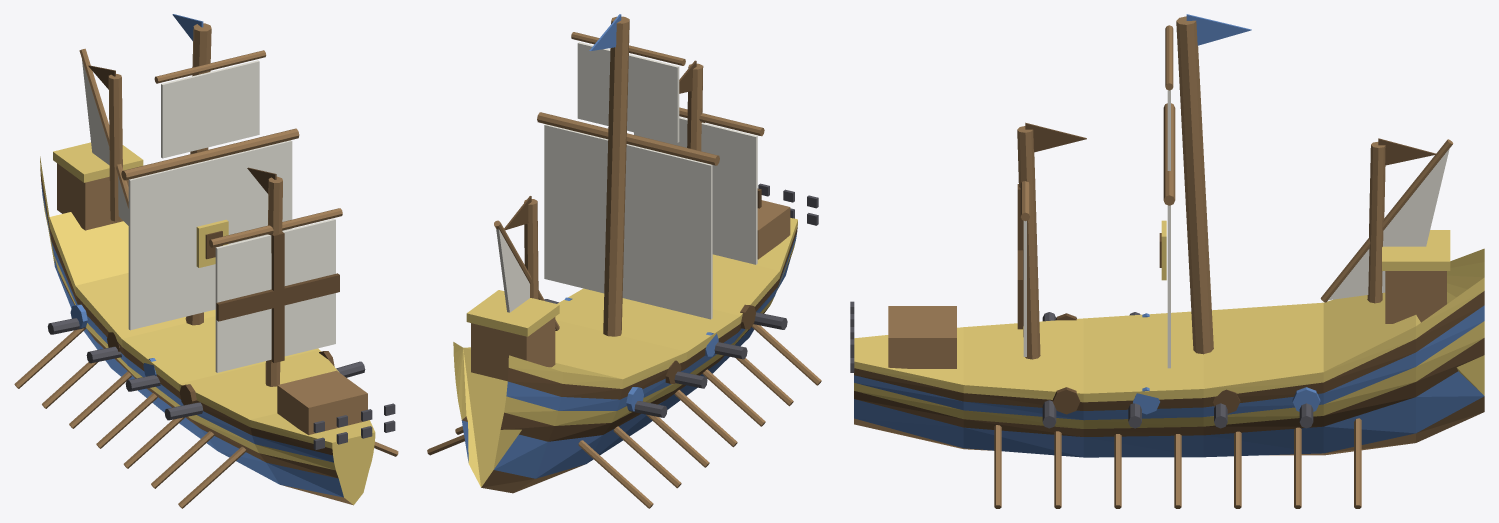
The model's file is Galleass.fbx.
3 renders of one model, left to right at view 1: azimuth 30°, elevation 25°; view 2: azimuth 150°, elevation 25°; view 3: azimuth 270°, elevation 25°, orthographic. The views are drawn at different scales.
Parts seen in each view (by area): view 1: Galleass_Body, Oar_L_0, Oar_L_6, Oar_L_1, Oar_L_4, Oar_L_3, Oar_L_2, Oar_L_5; view 2: Galleass_Body, Oar_L_6, Oar_L_0, Oar_L_5, Oar_L_2, Oar_L_3, Oar_L_4, Oar_L_1; view 3: Galleass_Body, Oar_R_6.
Boxes of the visible parts, x1,y1,x2,y2 form: Galleass_Body: (40,14,395,505); Oar_L_0: (178,446,246,508); Oar_L_6: (14,327,86,388); Oar_L_1: (151,431,214,488); Oar_L_4: (69,371,131,428); Oar_L_3: (96,393,157,448); Oar_L_2: (123,417,184,468); Oar_L_5: (42,348,103,408); Galleass_Body: (453,14,818,493); Oar_L_6: (578,440,653,508); Oar_L_0: (752,324,821,385); Oar_L_5: (613,426,681,488); Oar_L_2: (702,369,765,426); Oar_L_3: (674,390,737,447); Oar_L_4: (646,414,709,467); Oar_L_1: (736,358,793,406); Galleass_Body: (850,14,1484,457); Oar_R_6: (1354,418,1361,508).
Bounding box in the file's own units: 6.97 × 12.21 × 15.92.
